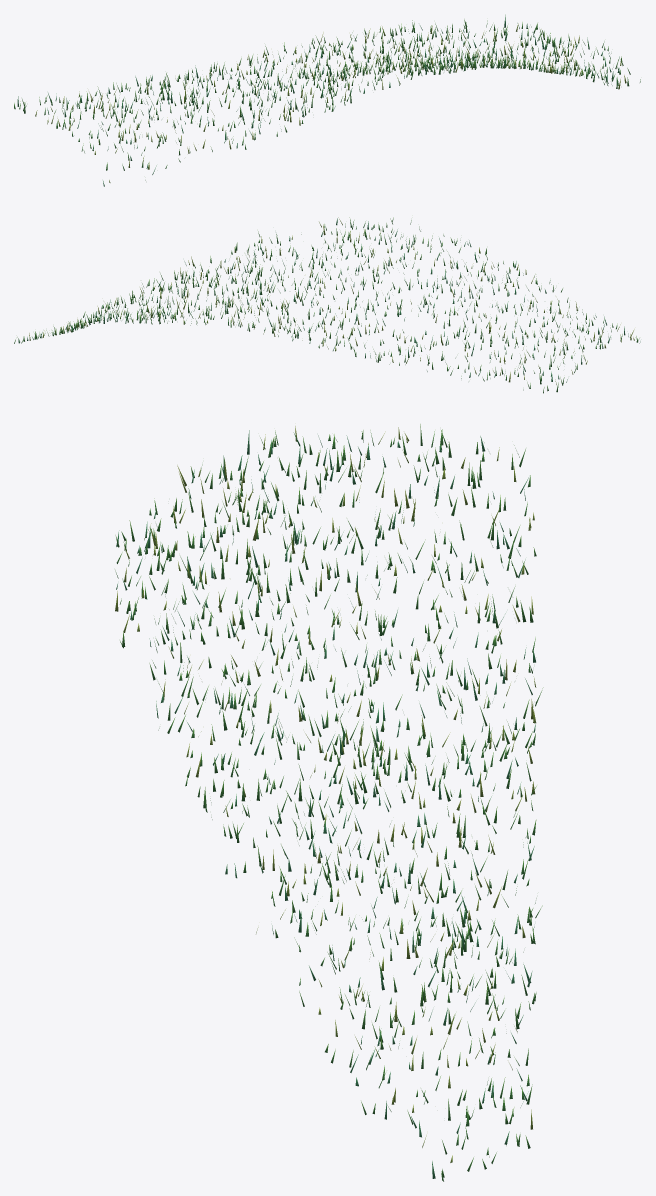
The picture shows the model from 3 angles, top to bottom: view 1: azimuth 30°, elevation 25°; view 2: azimuth 150°, elevation 25°; view 3: azimuth 270°, elevation 25°; orthographic projection. The views are drawn at different scales.
Visible parts, largest first — view 1: gc_0; view 2: gc_0; view 3: gc_0.
Boxes of the visible parts, box(x1,y1,x2,y2) form: gc_0: box(14, 14, 640, 186); gc_0: box(14, 217, 640, 393); gc_0: box(115, 424, 543, 1181).
Bounding box in the file's own units: 18.09 × 4.39 × 6.15.
1 material, 1 textured.
